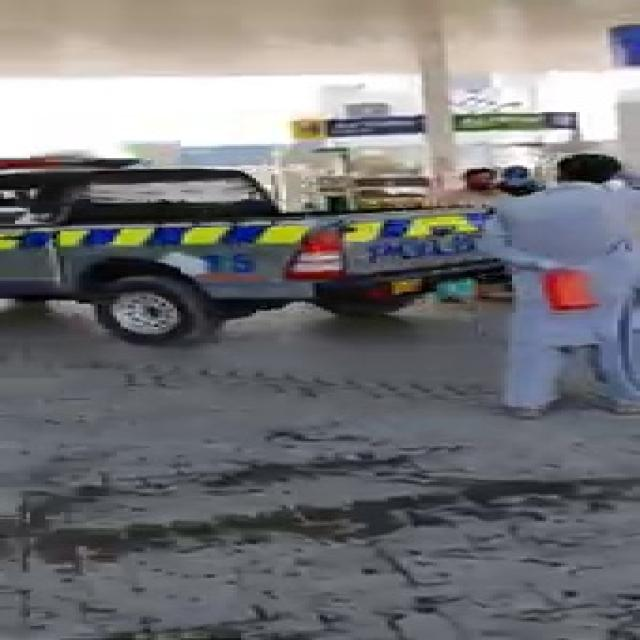police: (6, 161, 508, 327)
